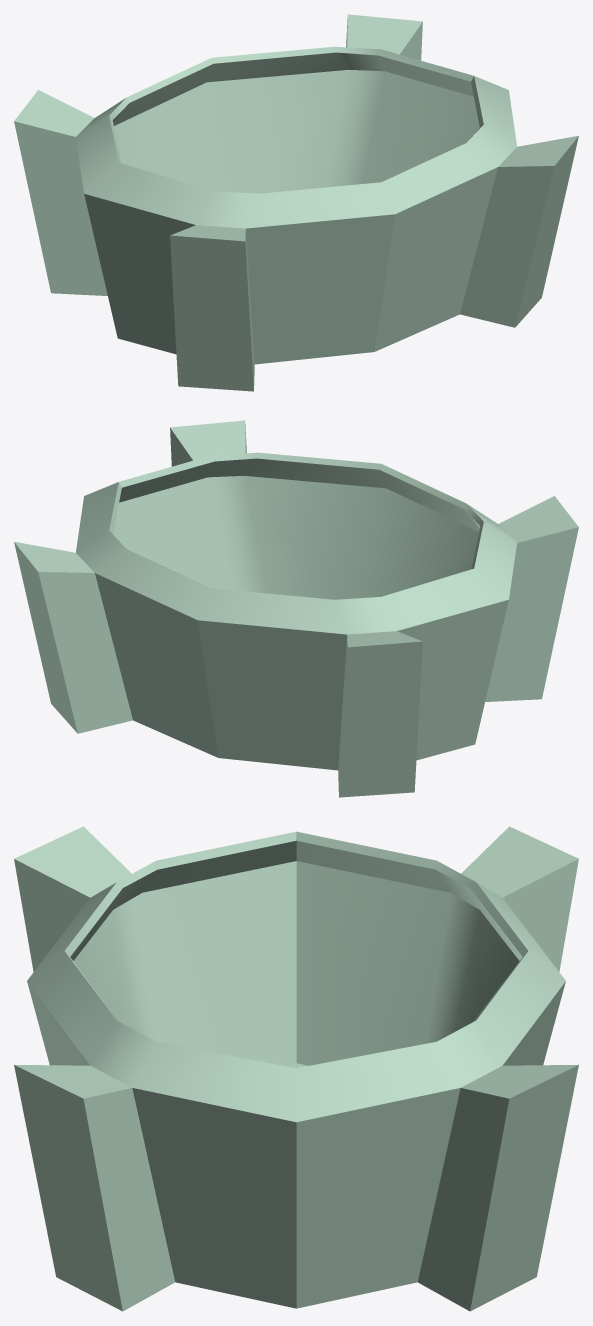
The model's file is stadiumtest.fbx.
The picture shows the model from 3 angles, top to bottom: view 1: azimuth 30°, elevation 25°; view 2: azimuth 150°, elevation 25°; view 3: azimuth 270°, elevation 25°; orthographic projection. The views are drawn at different scales.
Visible parts, largest first — view 1: polySurface75; view 2: polySurface75; view 3: polySurface75.
Boxes of the visible parts, box(x1,y1,x2,y2) form: polySurface75: box(14, 14, 578, 391); polySurface75: box(14, 420, 578, 797); polySurface75: box(14, 826, 578, 1311).
Size of the model in its own units: 1558 by 618 by 1315.
